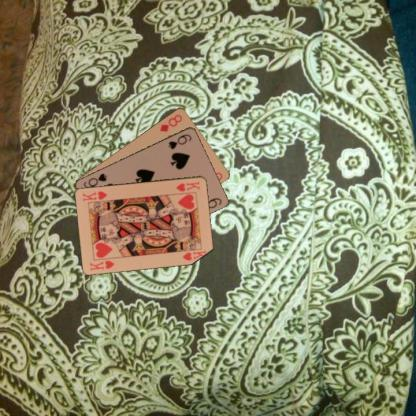6s: (166, 131, 193, 150)
8d: (157, 112, 183, 132)
Kh: (173, 178, 201, 192), (88, 258, 116, 272)
